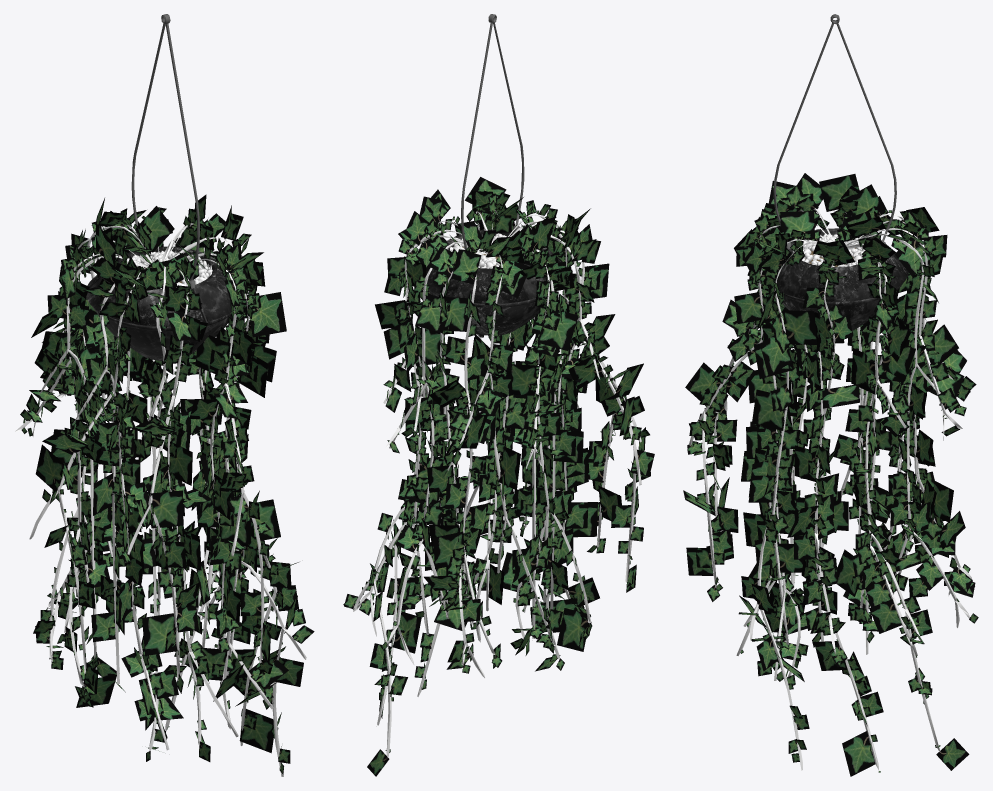
Rendered from ASSET_hanging_plant.glb.
3 renders of one model, left to right at view 1: azimuth 30°, elevation 25°; view 2: azimuth 150°, elevation 25°; view 3: azimuth 270°, elevation 25°, orthographic. The views are drawn at different scales.
Visible parts, largest first — view 1: ASSET_hanging_plant; view 2: ASSET_hanging_plant; view 3: ASSET_hanging_plant.
Part boxes in pixels (x1,y1,x2,y2): ASSET_hanging_plant: (15, 14, 314, 776); ASSET_hanging_plant: (343, 14, 654, 776); ASSET_hanging_plant: (683, 14, 978, 776).
Bounding box in the file's own units: 0.6565 × 1.75 × 0.6448.
6 materials, 4 textured.
